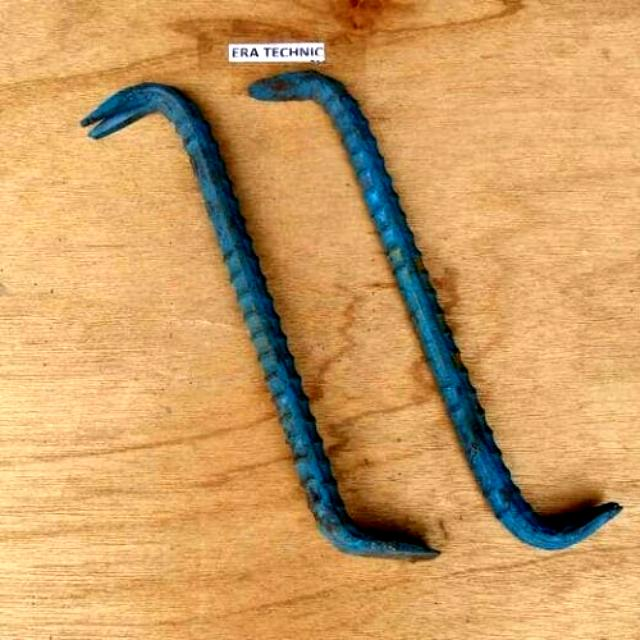crow bar: (235, 38, 631, 570), (54, 54, 449, 570)
